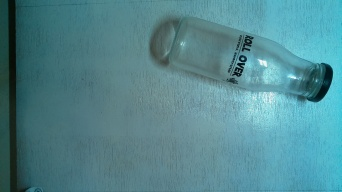f: (168, 12, 337, 114)
